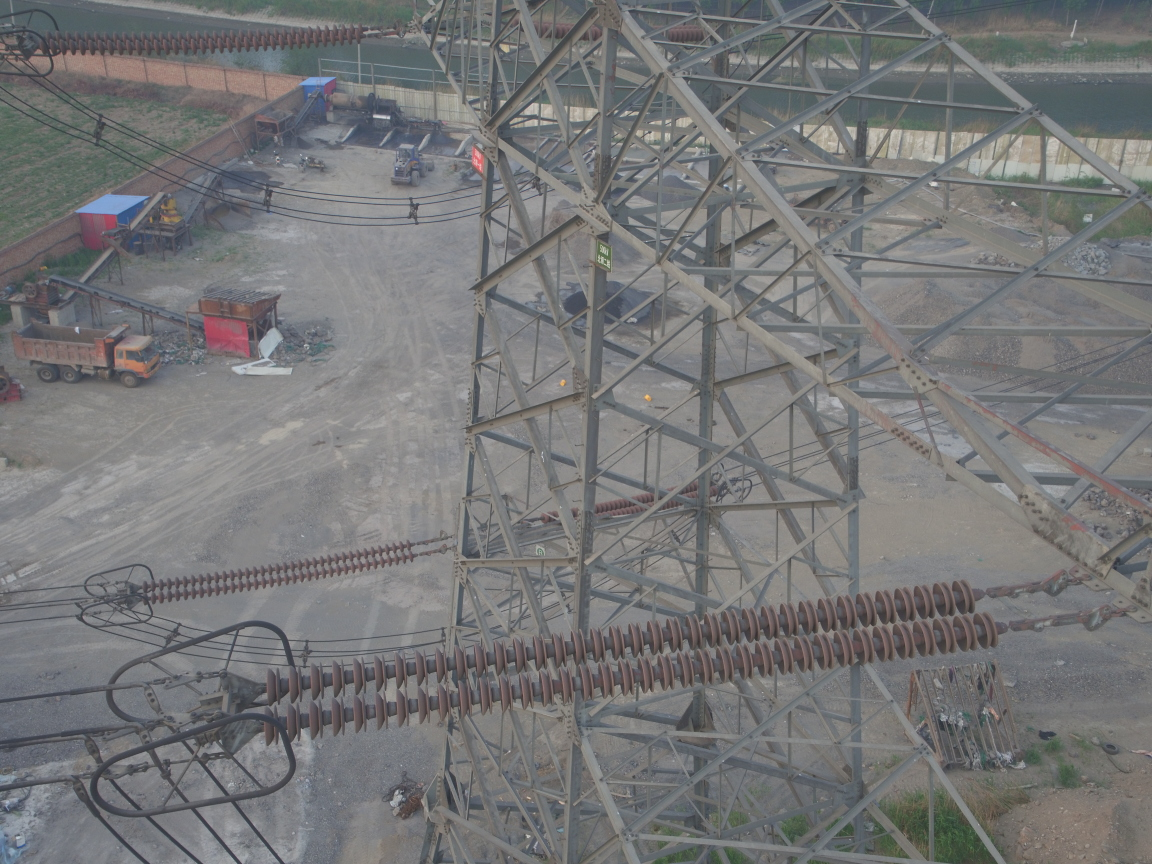insulator: (251, 575, 1022, 748), (139, 537, 423, 608), (33, 21, 382, 56)
